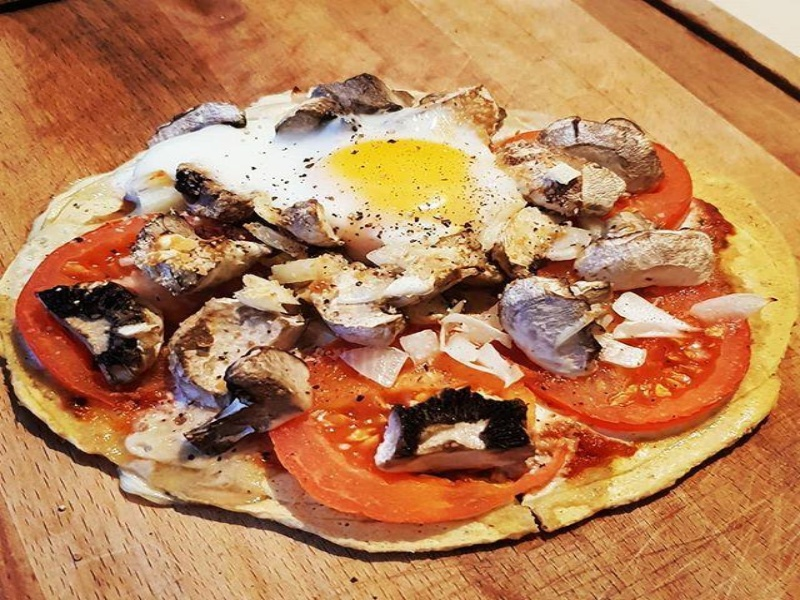oeuf: (321, 135, 492, 235)
